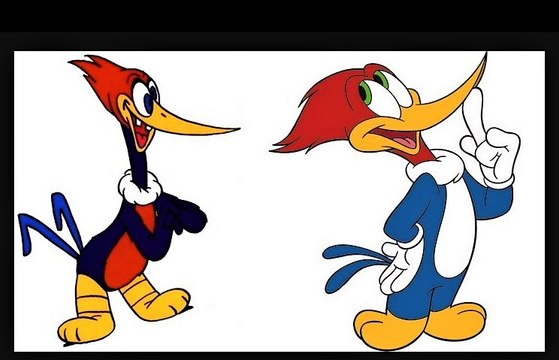picapau: (273, 53, 535, 348), (19, 52, 240, 351)
